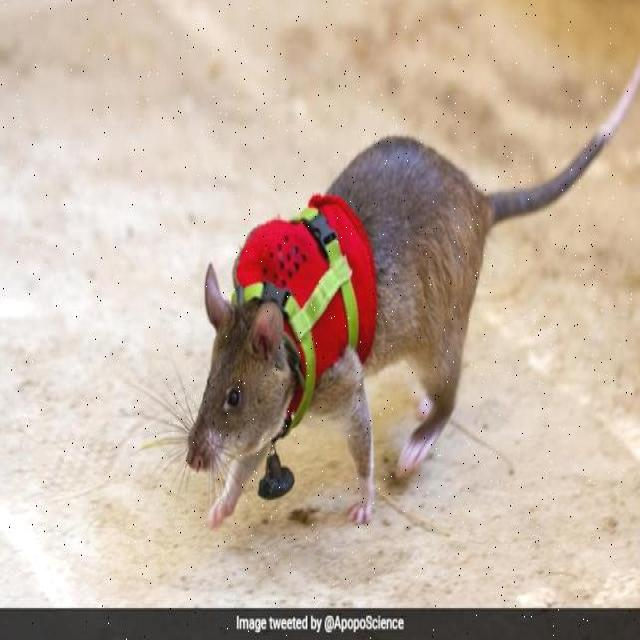rat: (185, 125, 608, 532)
